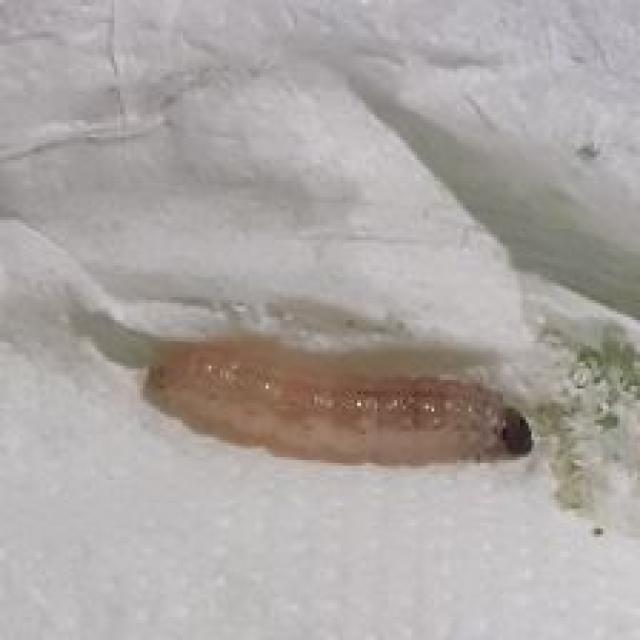white mucus: (125, 342, 529, 486)
